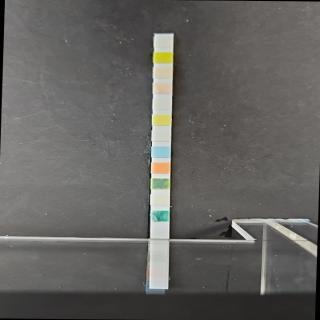mark: (153, 36, 174, 49), (150, 194, 170, 207), (151, 162, 170, 175), (150, 178, 170, 190), (153, 84, 172, 96), (152, 114, 171, 126), (152, 130, 171, 142), (150, 210, 169, 222), (153, 53, 173, 64), (154, 68, 172, 80), (152, 99, 171, 110), (151, 147, 170, 158)
